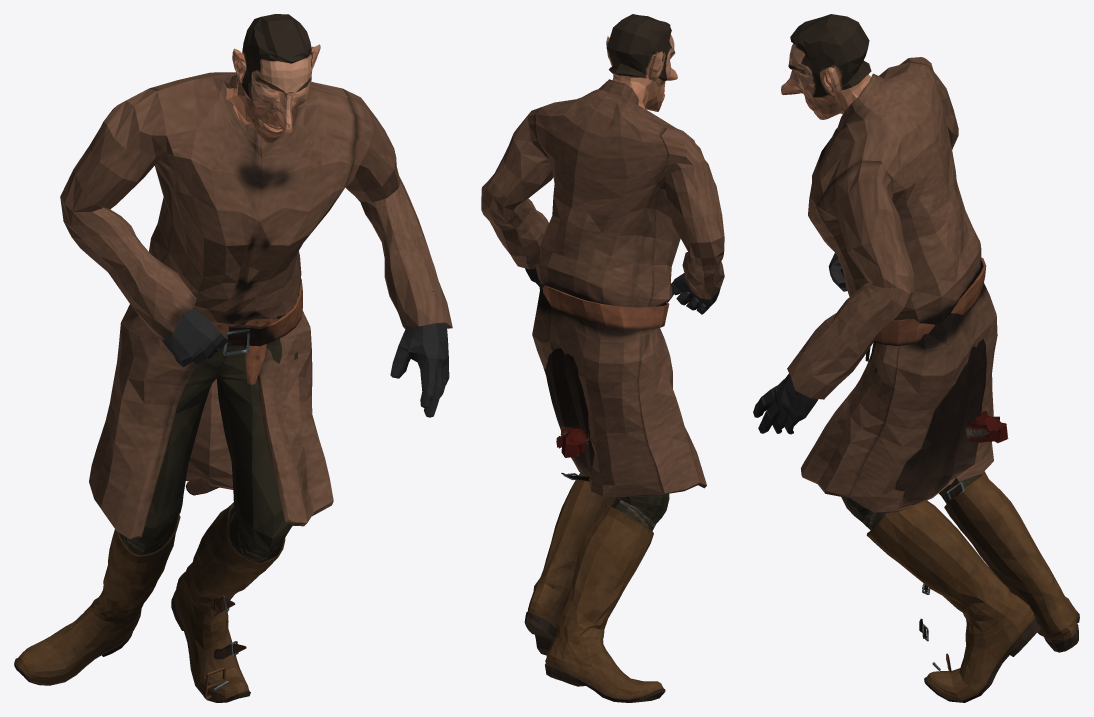
Rendered from sniper01_000002.obj.
The picture shows the model from 3 angles, left to right: view 1: azimuth 30°, elevation 25°; view 2: azimuth 150°, elevation 25°; view 3: azimuth 270°, elevation 25°; orthographic projection. The views are drawn at different scales.
Visible parts, largest first — view 1: Tops, Shoes, Bottoms, BodyParts; view 2: Tops, Shoes, BodyParts, Bottoms; view 3: Tops, Shoes, BodyParts, Bottoms.
Boxes of the visible parts, x1=… form: Tops: x1=60, y1=72, x2=452, y2=691; Shoes: x1=14, y1=502, x2=285, y2=702; Bottoms: x1=120, y1=314, x2=298, y2=699; BodyParts: x1=159, y1=14, x2=449, y2=417; Tops: x1=481, y1=79, x2=724, y2=496; Shoes: x1=524, y1=472, x2=665, y2=702; BodyParts: x1=525, y1=14, x2=720, y2=457; Bottoms: x1=611, y1=493, x2=669, y2=530; Tops: x1=787, y1=57, x2=997, y2=670; Shoes: x1=866, y1=471, x2=1079, y2=702; BodyParts: x1=753, y1=14, x2=1008, y2=443; Bottoms: x1=841, y1=342, x2=979, y2=671.
Bounding box in the file's own units: 1.12 × 2.47 × 1.1.
